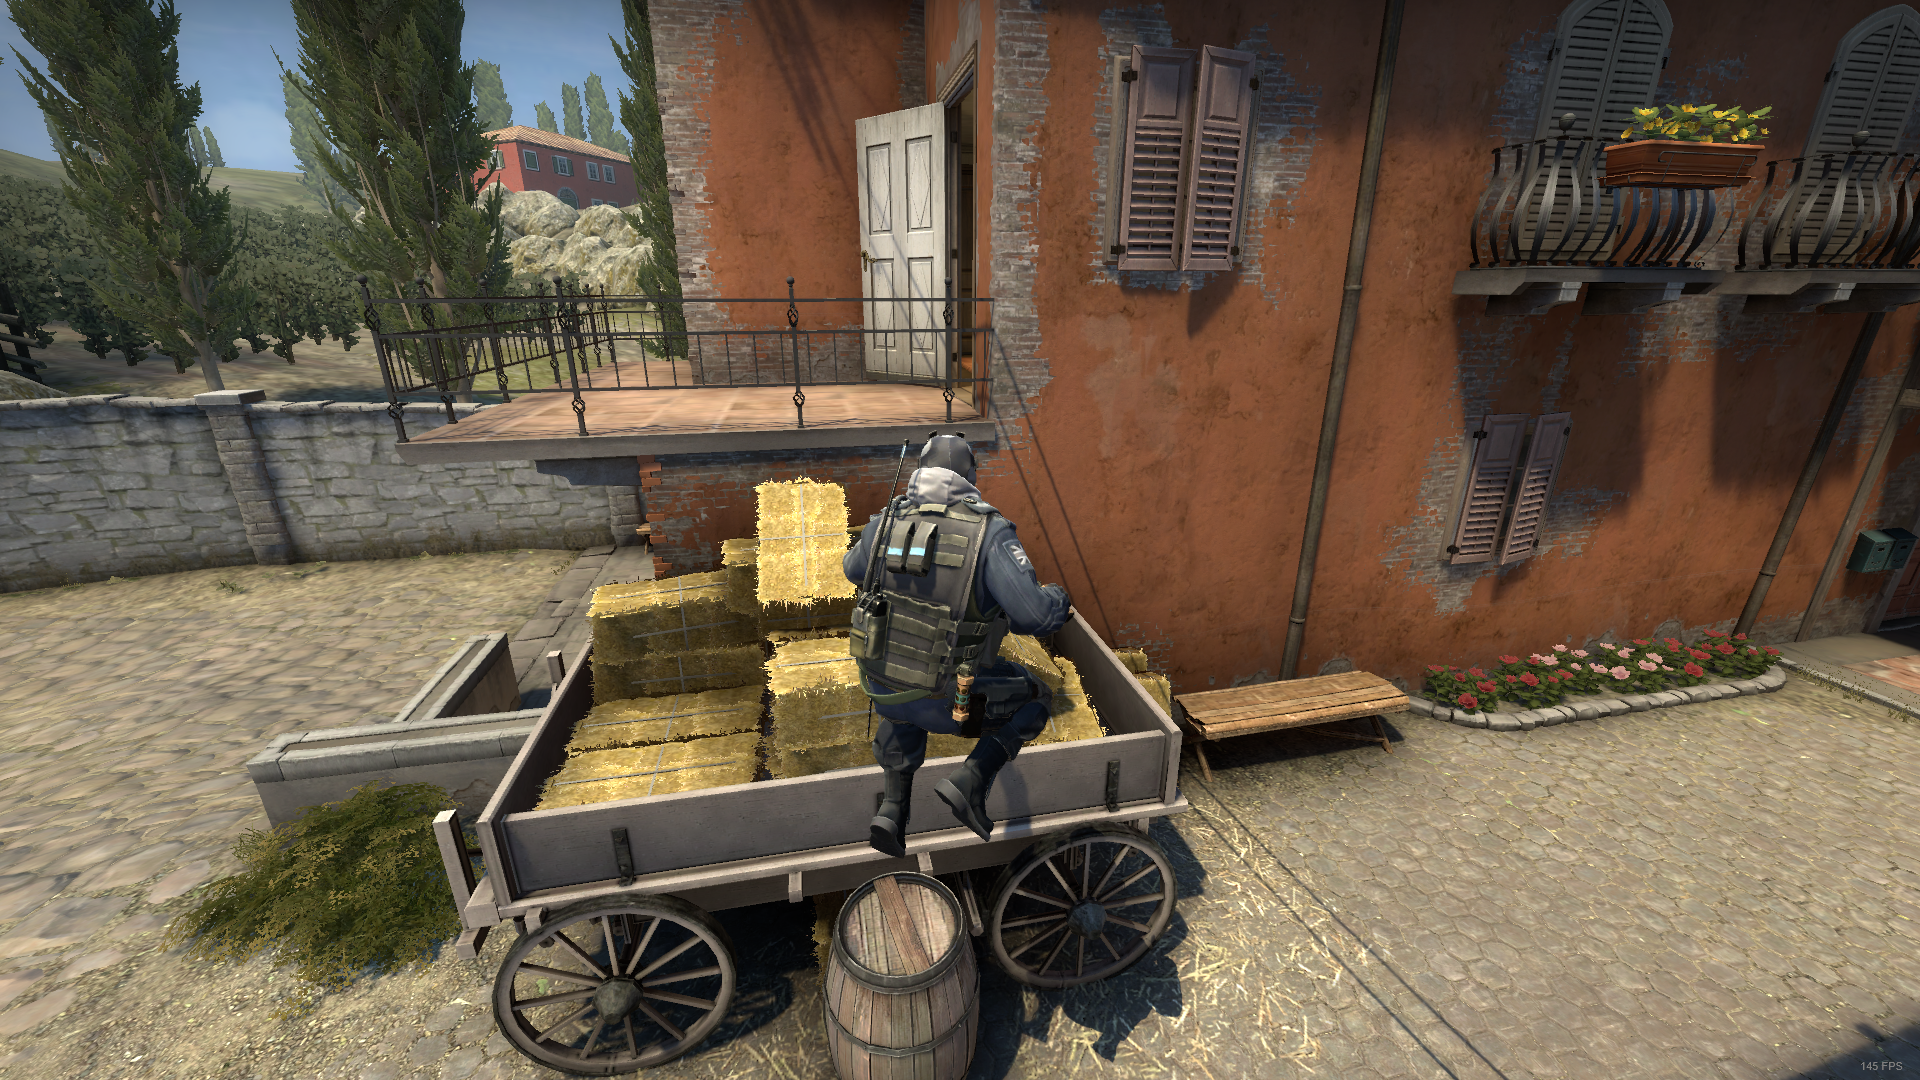ct: (847, 430, 1077, 866)
